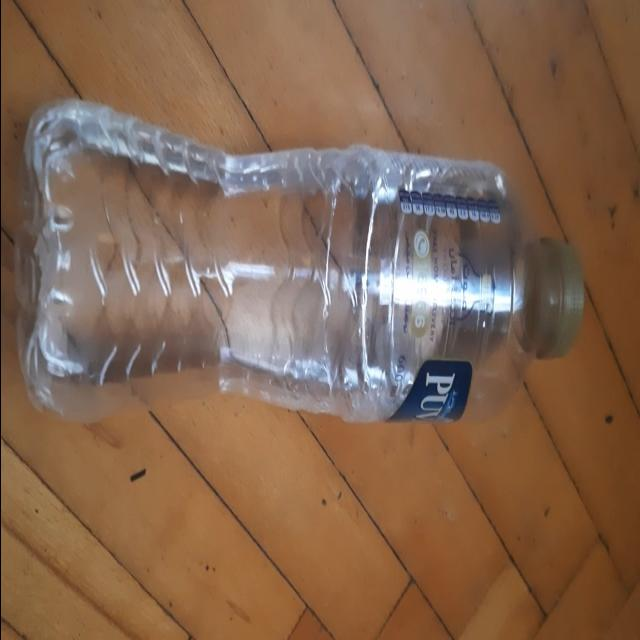Plastic: (0, 97, 584, 421)
